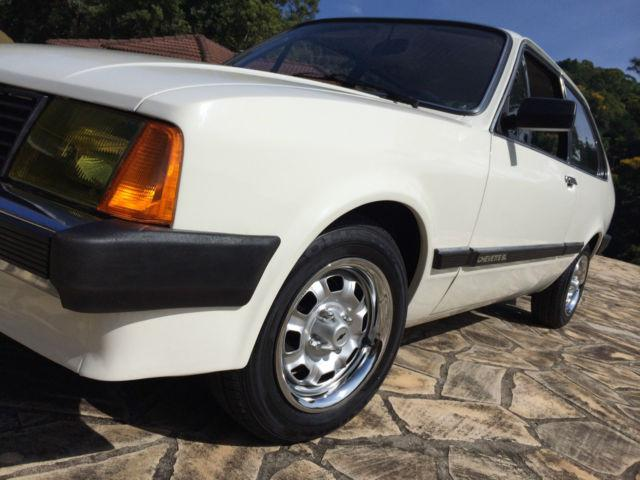chevette-1983: (0, 19, 614, 442)
